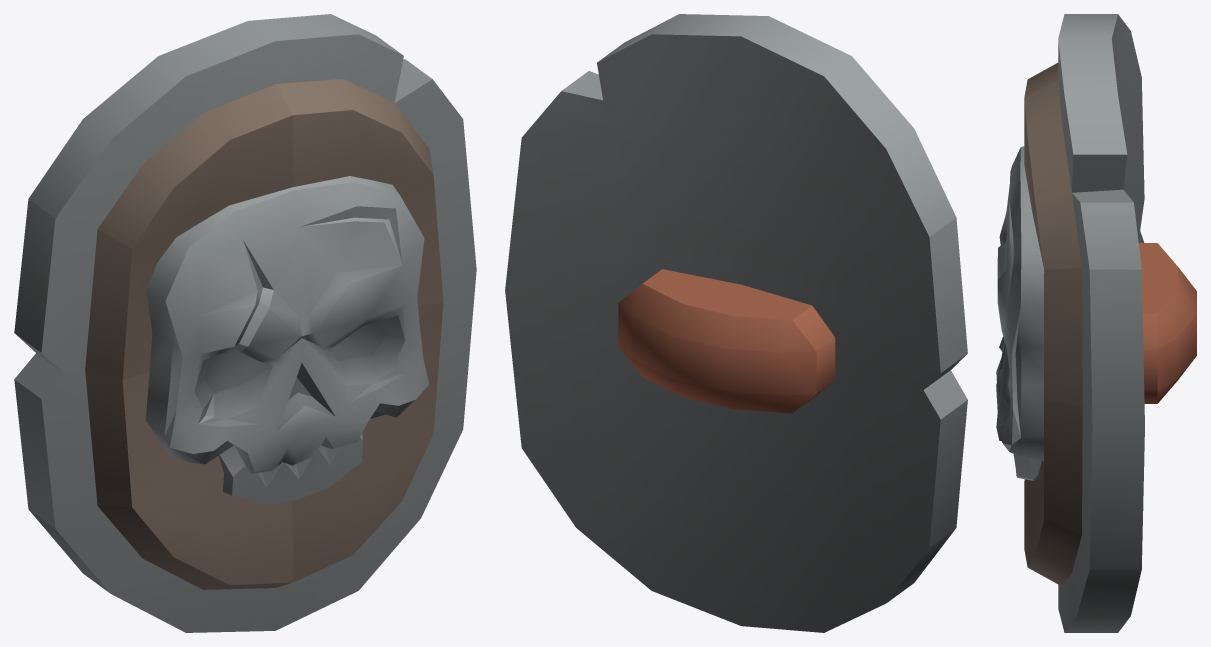
Rendered from Skeleton_Shield_Large_A.gltf.
The picture shows the model from 3 angles, left to right: view 1: azimuth 30°, elevation 25°; view 2: azimuth 150°, elevation 25°; view 3: azimuth 270°, elevation 25°; orthographic projection. The views are drawn at different scales.
Parts seen in each view (by area): view 1: Skeleton_Shield_Large_A; view 2: Skeleton_Shield_Large_A; view 3: Skeleton_Shield_Large_A.
Boxes of the visible parts, bbox=[...] form: Skeleton_Shield_Large_A: bbox=[14, 14, 476, 632]; Skeleton_Shield_Large_A: bbox=[505, 14, 967, 632]; Skeleton_Shield_Large_A: bbox=[996, 14, 1196, 632].
Size of the model in its own units: 0.8771 by 1.13 by 0.3625.
Materials: 1 (1 with a texture image).
